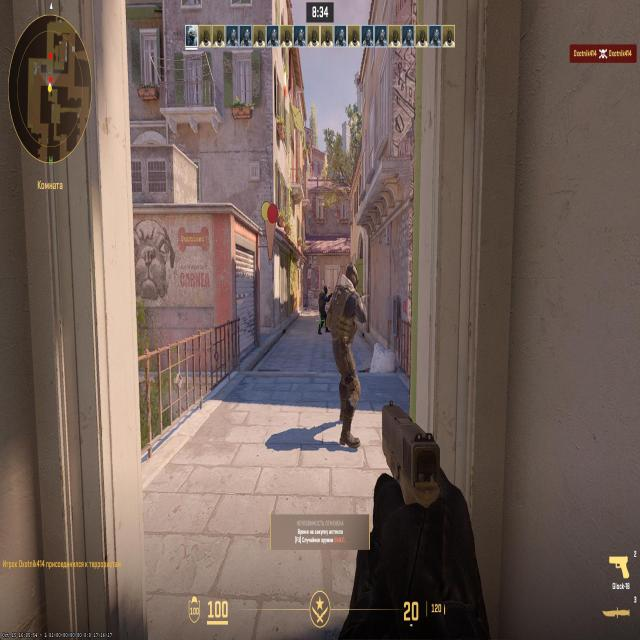CT: (341, 268, 359, 416), (317, 290, 327, 325)
CT_heat: (347, 268, 354, 286), (319, 293, 324, 300)
